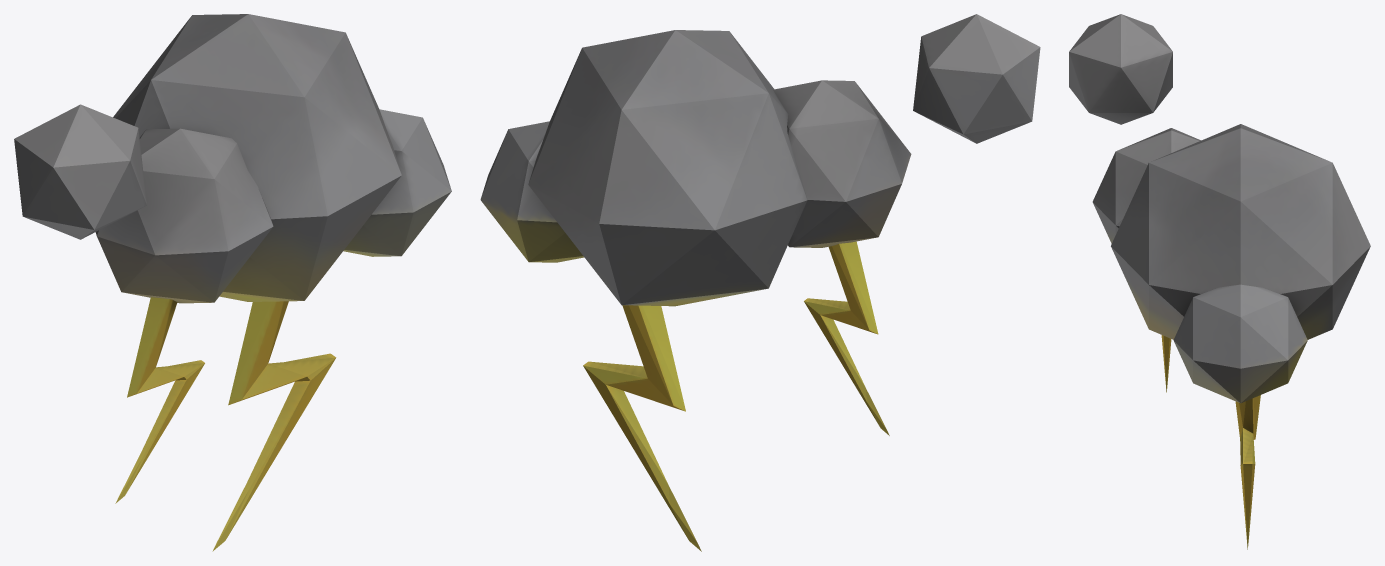
The model's file is Cloud_14.fbx.
3 views of the same model, side by side, from view 1: azimuth 30°, elevation 25°; view 2: azimuth 150°, elevation 25°; view 3: azimuth 270°, elevation 25° (orthographic). The views are drawn at different scales.
Parts seen in each view (by area): view 1: Cloud_14; view 2: Cloud_14; view 3: Cloud_14.
Part boxes in pixels (box(x1,y1,x2,y2)): Cloud_14: box(14, 14, 451, 551); Cloud_14: box(480, 14, 1040, 551); Cloud_14: box(1069, 14, 1370, 549).
Bounding box in the file's own units: 80.27 × 86.21 × 51.89.
